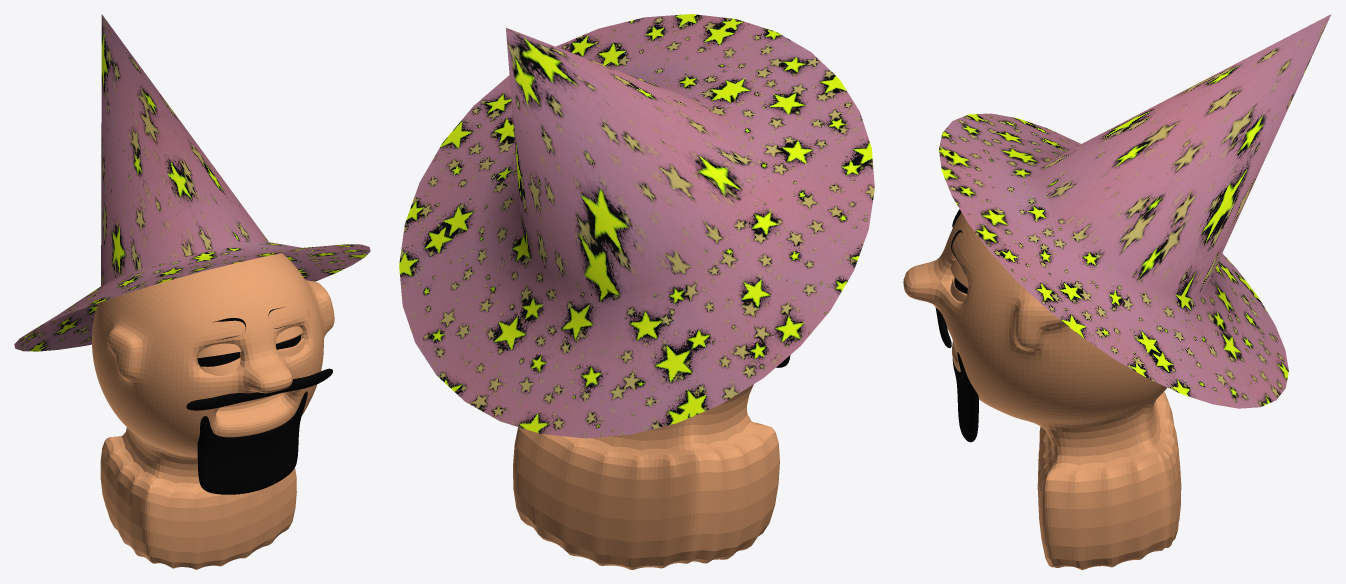
The model's file is headStars_Old.glb.
The picture shows the model from 3 angles, left to right: view 1: azimuth 30°, elevation 25°; view 2: azimuth 150°, elevation 25°; view 3: azimuth 270°, elevation 25°; orthographic projection. The views are drawn at different scales.
Parts seen in each view (by area): view 1: Head, Hat, Cube.005, Cube.004; view 2: Hat, Head; view 3: Hat, Head, Cube.005.
Part boxes in pixels (x1,y1,x2,y2): Head: (92,253,334,569); Hat: (14,14,370,351); Cube.005: (197,391,307,494); Cube.004: (186,368,332,410); Hat: (399,14,874,438); Head: (513,384,779,569); Hat: (939,14,1331,408); Head: (903,212,1181,569); Cube.005: (952,352,978,442).
Size of the model in its own units: 2.17 by 2.99 by 2.16.
4 materials, 3 textured.
